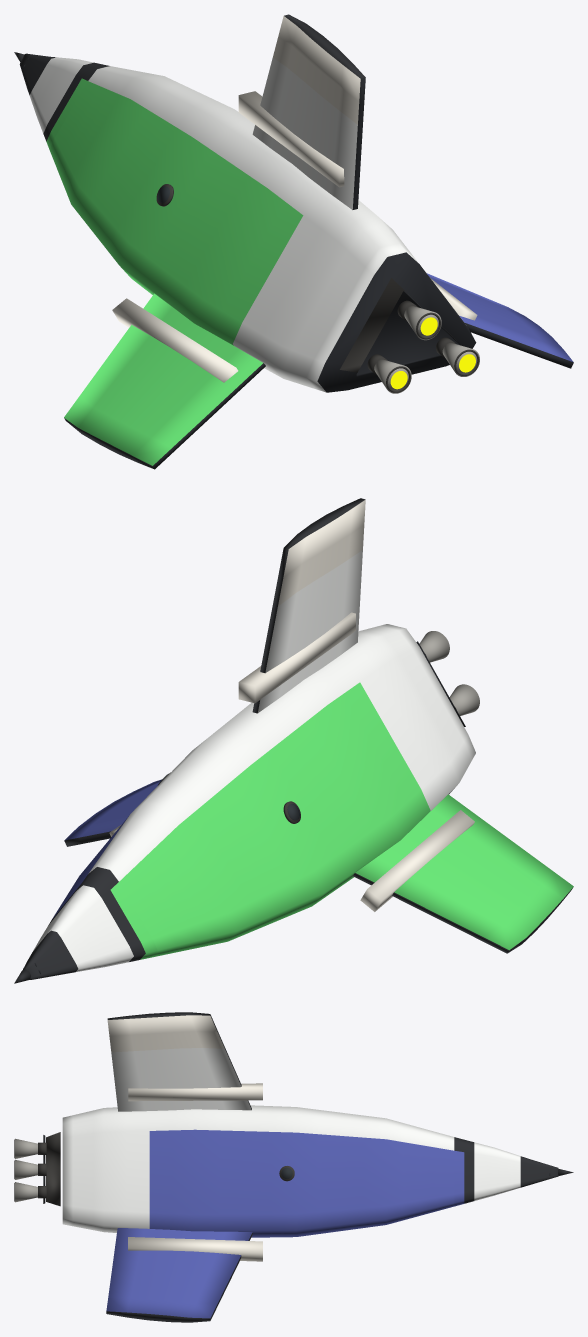
The model's file is Ship_Standard_16.glb.
3 renders of one model, top to bottom at view 1: azimuth 30°, elevation 25°; view 2: azimuth 150°, elevation 25°; view 3: azimuth 270°, elevation 25°, orthographic. The views are drawn at different scales.
Visible parts, largest first — view 1: Fuselage_RoundedTriangleTriFoldBody, Wing_LowerLeft_TriFoldCornerBladePaintedMesh, Wing_Dorsal_TriFoldCornerBladePaintedMesh, Nose_RoundedTriangleTaperedForwardSection, Wing_LowerRight_TriFoldCornerBladePaintedMesh, WingRootSocket_LowerLeft_IntegratedEmbeddedShoulder, EngineBlock_AftTriFoldTrimFrame, WingRootSocket_Dorsal_IntegratedEmbeddedShoulder, EngineBlock_AftTriangularIntegratedMountPlate, EngineEmitter, EngineBell_Dorsal_BurnishedNozzle, EngineBell_LowerLeft_BurnishedNozzle (+1 smaller); view 2: Fuselage_RoundedTriangleTriFoldBody, Wing_LowerLeft_TriFoldCornerBladePaintedMesh, Wing_Dorsal_TriFoldCornerBladePaintedMesh, Nose_RoundedTriangleTaperedForwardSection, WingRootSocket_LowerLeft_IntegratedEmbeddedShoulder, WingRootSocket_Dorsal_IntegratedEmbeddedShoulder, Wing_LowerRight_TriFoldCornerBladePaintedMesh, EngineBell_LowerLeft_BurnishedNozzle, EngineBell_Dorsal_BurnishedNozzle; view 3: Fuselage_RoundedTriangleTriFoldBody, Wing_Dorsal_TriFoldCornerBladePaintedMesh, Wing_LowerRight_TriFoldCornerBladePaintedMesh, Nose_RoundedTriangleTaperedForwardSection, WingRootSocket_LowerRight_IntegratedEmbeddedShoulder, WingRootSocket_Dorsal_IntegratedEmbeddedShoulder, EngineBlock_AftTriangularIntegratedMountPlate.
Part boxes in pixels (x1,y1,x2,y2): Fuselage_RoundedTriangleTriFoldBody: (49, 66, 476, 392); Wing_LowerLeft_TriFoldCornerBladePaintedMesh: (64, 293, 265, 469); Wing_Dorsal_TriFoldCornerBladePaintedMesh: (252, 14, 365, 209); Nose_RoundedTriangleTaperedForwardSection: (19, 53, 109, 149); Wing_LowerRight_TriFoldCornerBladePaintedMesh: (427, 273, 573, 368); WingRootSocket_LowerLeft_IntegratedEmbeddedShoulder: (112, 298, 238, 382); EngineBlock_AftTriFoldTrimFrame: (356, 291, 460, 376); WingRootSocket_Dorsal_IntegratedEmbeddedShoulder: (238, 91, 344, 187); EngineBlock_AftTriangularIntegratedMountPlate: (340, 278, 456, 372); EngineEmitter: (390, 317, 475, 389); EngineBell_Dorsal_BurnishedNozzle: (404, 306, 441, 340); EngineBell_LowerLeft_BurnishedNozzle: (374, 359, 411, 393); Fuselage_RoundedTriangleTriFoldBody: (55, 624, 475, 957); Wing_LowerLeft_TriFoldCornerBladePaintedMesh: (352, 794, 573, 953); Wing_Dorsal_TriFoldCornerBladePaintedMesh: (252, 498, 365, 713); Nose_RoundedTriangleTaperedForwardSection: (23, 867, 157, 979); WingRootSocket_LowerLeft_IntegratedEmbeddedShoulder: (360, 810, 474, 911); WingRootSocket_Dorsal_IntegratedEmbeddedShoulder: (238, 612, 355, 703); Wing_LowerRight_TriFoldCornerBladePaintedMesh: (64, 779, 161, 846); EngineBell_LowerLeft_BurnishedNozzle: (449, 684, 479, 715); EngineBell_Dorsal_BurnishedNozzle: (419, 631, 449, 662); Fuselage_RoundedTriangleTriFoldBody: (62, 1105, 454, 1237); Wing_Dorsal_TriFoldCornerBladePaintedMesh: (107, 1012, 251, 1111); Wing_LowerRight_TriFoldCornerBladePaintedMesh: (106, 1228, 252, 1322); Nose_RoundedTriangleTaperedForwardSection: (454, 1137, 558, 1206); WingRootSocket_LowerRight_IntegratedEmbeddedShoulder: (128, 1237, 262, 1261); WingRootSocket_Dorsal_IntegratedEmbeddedShoulder: (128, 1083, 262, 1101); EngineBlock_AftTriangularIntegratedMountPlate: (46, 1132, 60, 1206).
Size of the model in its own units: 4.7 by 3.58 by 7.62.
